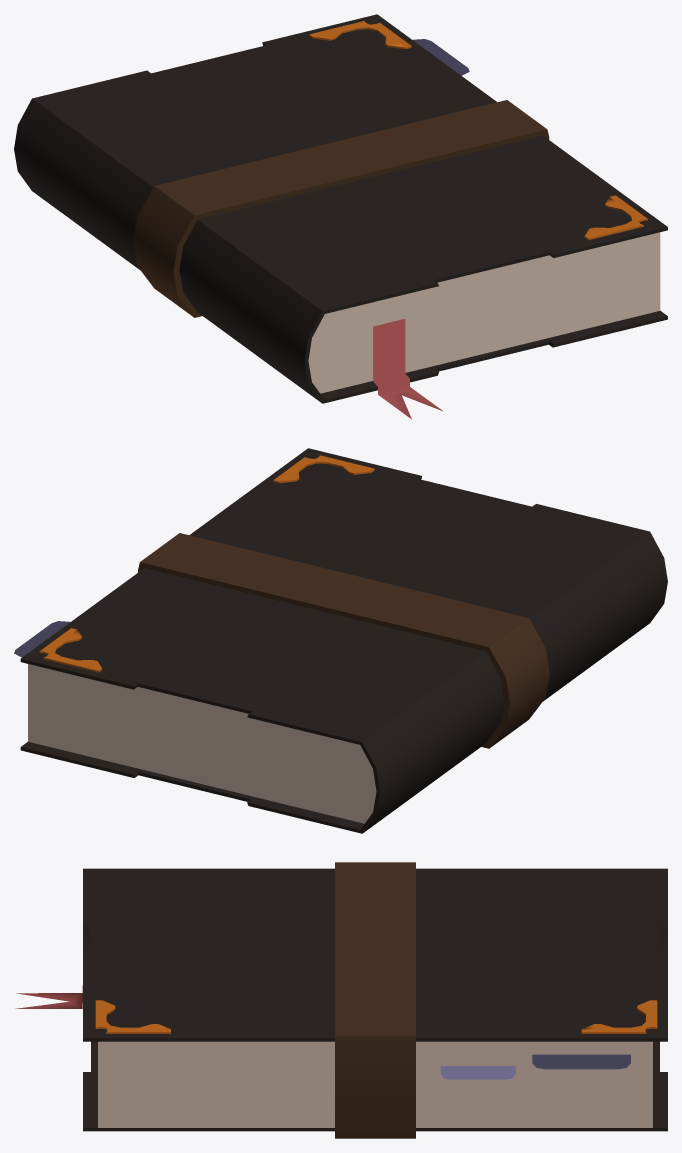
File: carnetFermer.fbx
3 renders of one model, top to bottom at view 1: azimuth 30°, elevation 25°; view 2: azimuth 150°, elevation 25°; view 3: azimuth 270°, elevation 25°, orthographic.
Visible parts, largest first — view 1: livreFermer; view 2: livreFermer; view 3: livreFermer.
Part boxes in pixels (x1,y1,x2,y2): livreFermer: (14, 14, 667, 419); livreFermer: (14, 448, 667, 833); livreFermer: (15, 862, 667, 1138).
Bounding box in the file's own units: 68.22 × 16.77 × 96.21.
